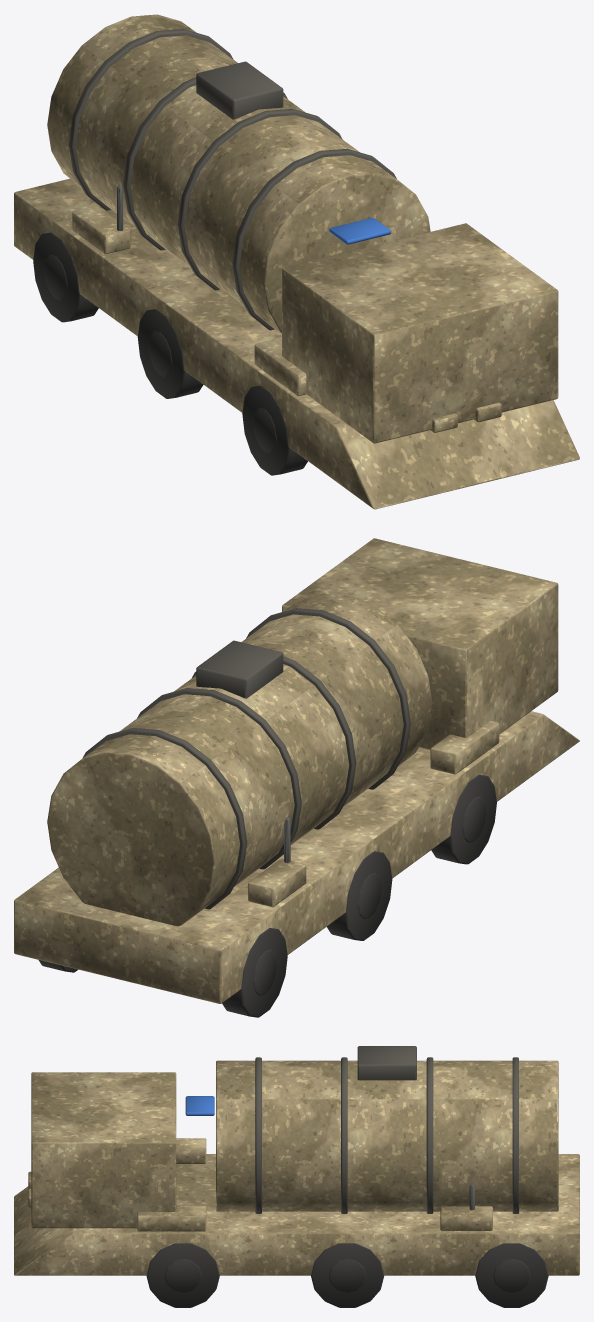
Rendered from log_e4_us_fueltruck_LOD0.glb.
The picture shows the model from 3 angles, top to bottom: view 1: azimuth 30°, elevation 25°; view 2: azimuth 150°, elevation 25°; view 3: azimuth 270°, elevation 25°; orthographic projection. The views are drawn at different scales.
Parts seen in each view (by area): view 1: log_e4_us_fueltruck_LOD0_body, log_e4_us_fueltruck_LOD0_deck, log_e4_us_fueltruck_LOD0_track, log_e4_us_fueltruck_LOD0_team; view 2: log_e4_us_fueltruck_LOD0_body, log_e4_us_fueltruck_LOD0_deck, log_e4_us_fueltruck_LOD0_track; view 3: log_e4_us_fueltruck_LOD0_body, log_e4_us_fueltruck_LOD0_track, log_e4_us_fueltruck_LOD0_deck, log_e4_us_fueltruck_LOD0_team.
Part boxes in pixels (left/top/right/bottom): log_e4_us_fueltruck_LOD0_body: left=14, top=14, right=579, bottom=509; log_e4_us_fueltruck_LOD0_deck: left=68, top=29, right=396, bottom=330; log_e4_us_fueltruck_LOD0_track: left=33, top=232, right=307, bottom=475; log_e4_us_fueltruck_LOD0_team: left=329, top=217, right=391, bottom=244; log_e4_us_fueltruck_LOD0_body: left=14, top=538, right=579, bottom=1003; log_e4_us_fueltruck_LOD0_deck: left=83, top=608, right=410, bottom=909; log_e4_us_fueltruck_LOD0_track: left=38, top=774, right=496, bottom=1017; log_e4_us_fueltruck_LOD0_body: left=14, top=1060, right=579, bottom=1275; log_e4_us_fueltruck_LOD0_track: left=146, top=1243, right=548, bottom=1307; log_e4_us_fueltruck_LOD0_deck: left=255, top=1046, right=518, bottom=1213; log_e4_us_fueltruck_LOD0_team: left=185, top=1096, right=214, bottom=1115.
Bounding box in the file's own units: 2.9 × 3.57 × 8.59.
5 materials, 1 textured.
